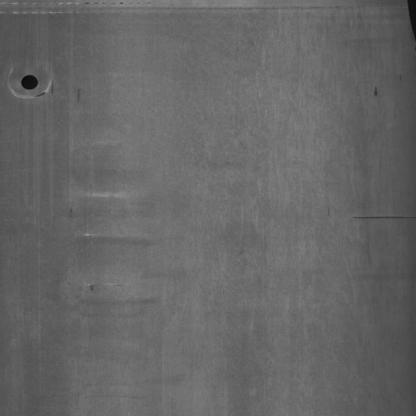crease: (343, 205, 416, 229)
crescent_gap: (403, 0, 415, 47)
punching_hole: (17, 70, 41, 92)
